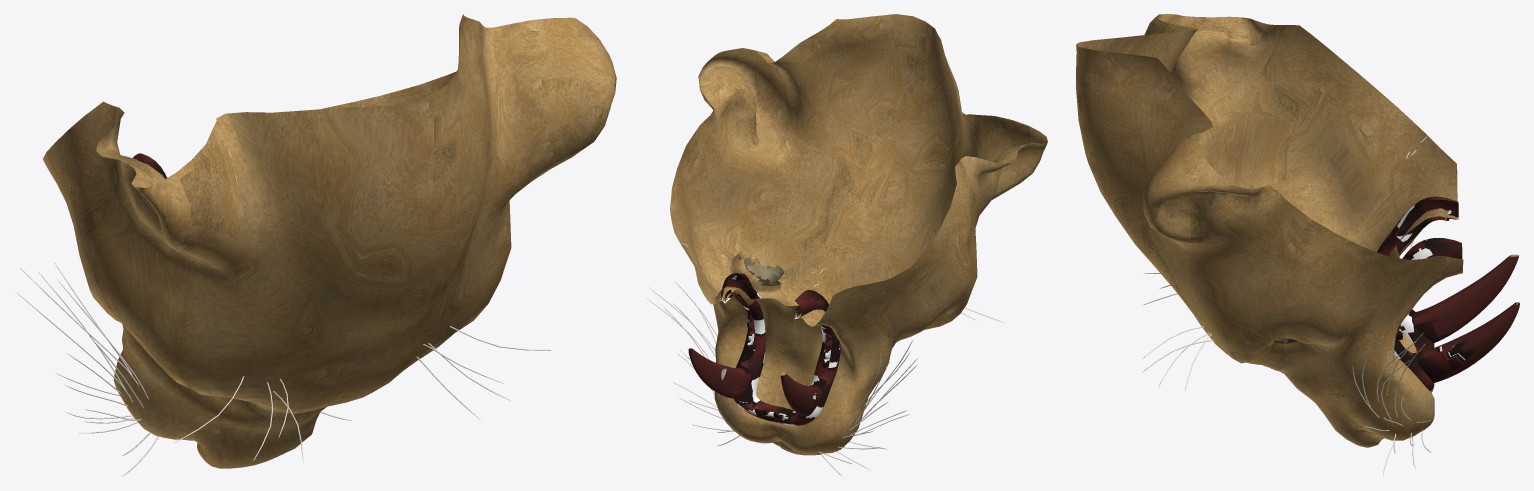
Rendered from sabretoothhead.fbx.
The picture shows the model from 3 angles, left to right: view 1: azimuth 30°, elevation 25°; view 2: azimuth 150°, elevation 25°; view 3: azimuth 270°, elevation 25°; orthographic projection. The views are drawn at different scales.
Visible parts, largest first — view 1: 12230_smilodon_v1_l2; view 2: 12230_smilodon_v1_l2; view 3: 12230_smilodon_v1_l2.
Part boxes in pixels (bbox=[...]): 12230_smilodon_v1_l2: bbox=[15, 14, 616, 476]; 12230_smilodon_v1_l2: bbox=[647, 14, 1047, 476]; 12230_smilodon_v1_l2: bbox=[1076, 14, 1519, 475].
Size of the model in its own units: 3535 by 3695 by 3600.
4 materials, 3 textured.
